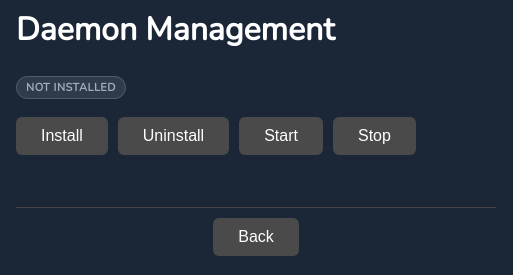
Scenario: DaemonManagementView › runs an action, reports success, and refreshes the status
Check: the text with class "home-badge" reads "not installed", box [26, 80, 116, 95]
Click the button with id "daemon-install-btn": (62, 136) [16, 117, 108, 155]
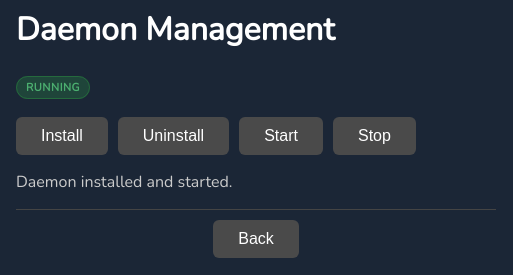
Check: the text with id "daemon-management-result" reads "Daemon installed and started.", box [16, 171, 232, 193]
Check: the text with class "home-badge" reads "running", box [26, 80, 80, 95]
